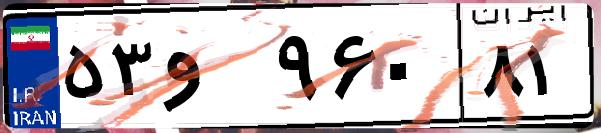0: (385, 28, 445, 110)
1: (525, 38, 570, 115)
3: (110, 28, 158, 98)
5: (57, 26, 110, 100)
6: (330, 28, 385, 110)
8: (475, 38, 525, 113)
9: (270, 28, 330, 110)
و: (158, 20, 270, 120)
